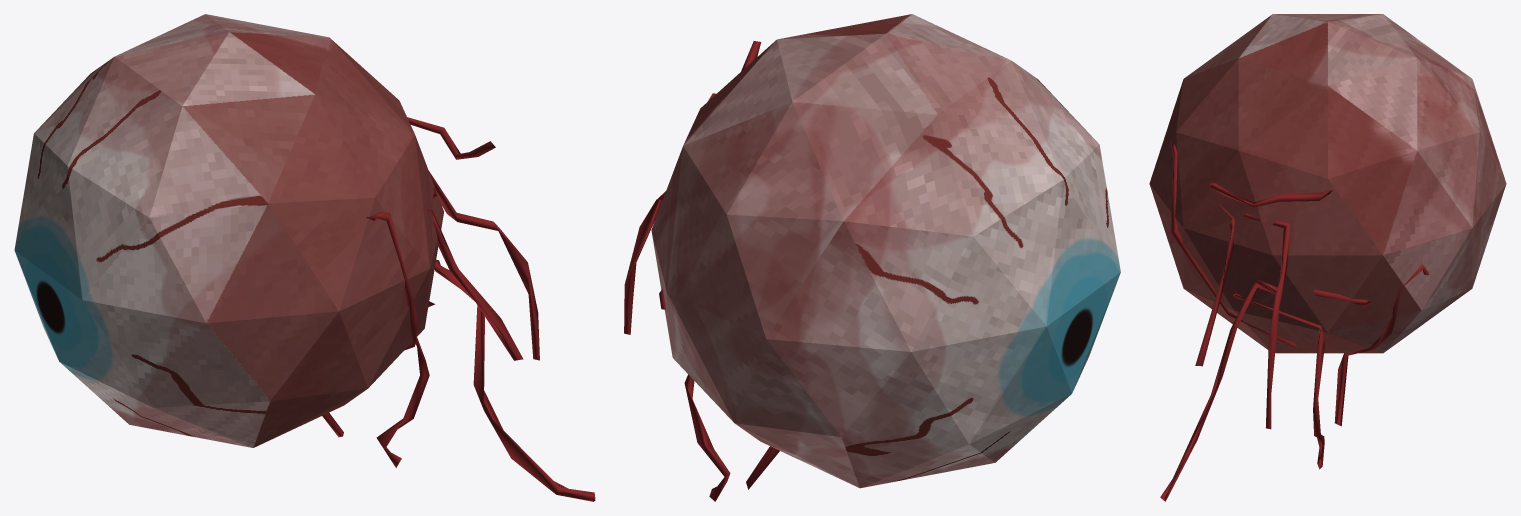
File: Occhio_horror.fbx
3 views of the same model, side by side, from view 1: azimuth 30°, elevation 25°; view 2: azimuth 150°, elevation 25°; view 3: azimuth 270°, elevation 25° (orthographic). The views are drawn at different scales.
Visible parts, largest first — view 1: BézierCurve.006; view 2: BézierCurve.006; view 3: BézierCurve.006.
Boxes of the visible parts, <box> form: BézierCurve.006: <box>14,14,595,501</box>; BézierCurve.006: <box>624,14,1120,501</box>; BézierCurve.006: <box>1149,14,1506,501</box>.
Size of the model in its own units: 0.0397 by 0.0393 by 0.0332.
Materials: 2 (1 with a texture image).
